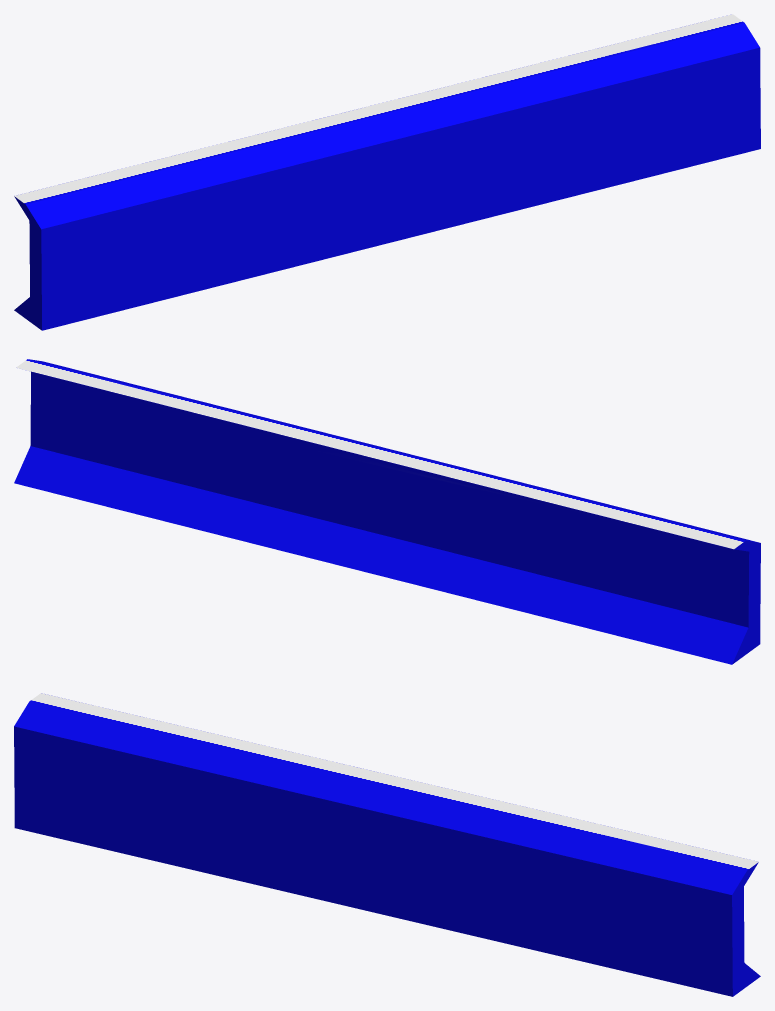
The model's file is tsunami.fbx.
The picture shows the model from 3 angles, top to bottom: view 1: azimuth 30°, elevation 25°; view 2: azimuth 150°, elevation 25°; view 3: azimuth 330°, elevation 25°; orthographic projection.
Visible parts, largest first — view 1: tsunami; view 2: tsunami; view 3: tsunami.
Part boxes in pixels (x1=…): tsunami: x1=14, y1=14, x2=760, y2=330; tsunami: x1=14, y1=359, x2=760, y2=664; tsunami: x1=14, y1=693, x2=760, y2=996.
Size of the model in its own units: 519 by 83.8 by 35.14.
